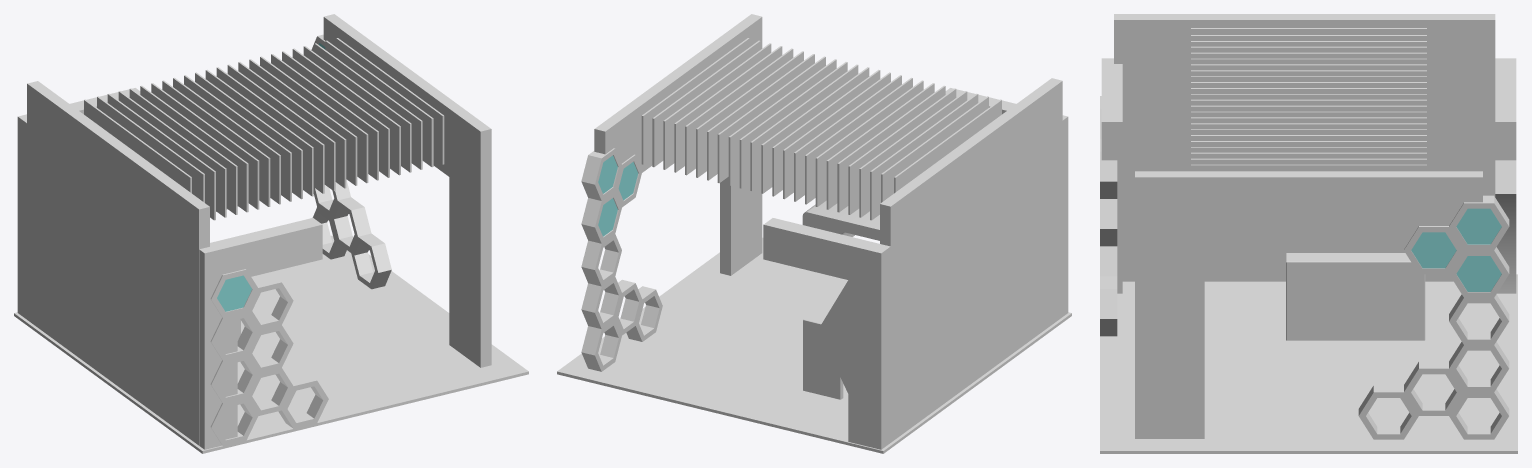
File: Stand_10.fbx
3 renders of one model, left to right at view 1: azimuth 30°, elevation 25°; view 2: azimuth 150°, elevation 25°; view 3: azimuth 270°, elevation 25°, orthographic. The views are drawn at different scales.
Parts seen in each view (by area): view 1: Stand_10, Stand_10_Roof; view 2: Stand_10, Stand_10_Roof, Stand_10_Table; view 3: Stand_10, Stand_10_Roof, Stand_10_Table.
Boxes of the visible parts, x1,y1,x2,y2 form: Stand_10: (14,14,528,453); Stand_10_Roof: (84,38,444,220); Stand_10: (557,14,1071,453); Stand_10_Roof: (641,38,1001,220); Stand_10_Table: (803,292,843,399); Stand_10: (1100,14,1517,453); Stand_10_Roof: (1191,28,1426,171); Stand_10_Table: (1286,253,1425,340).
Bounding box in the file's own units: 600 × 420 × 600.
